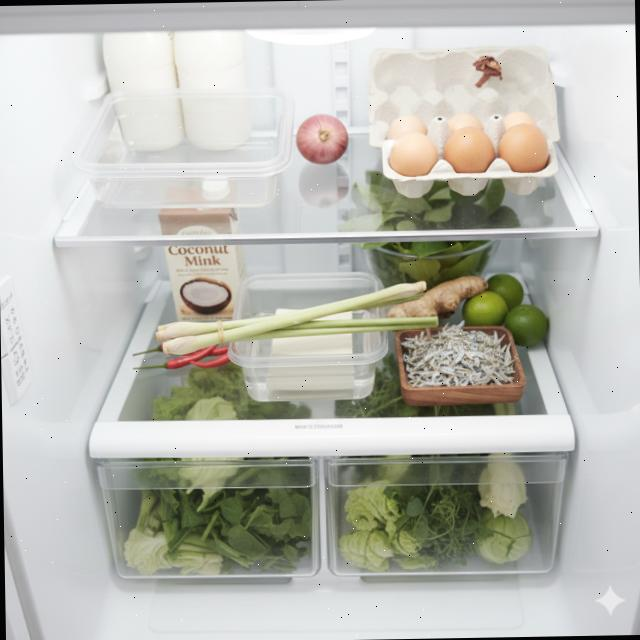anchovies: (400, 319, 516, 387)
chili: (132, 343, 229, 371)
egg: (366, 45, 560, 198)
ginger: (386, 276, 488, 318)
leafy_greens: (335, 350, 533, 572), (120, 360, 314, 575), (336, 168, 522, 290)
lemongrass: (154, 280, 438, 356)
lime: (460, 272, 548, 348)
onion: (296, 114, 348, 164)
tofu: (264, 306, 354, 400)
